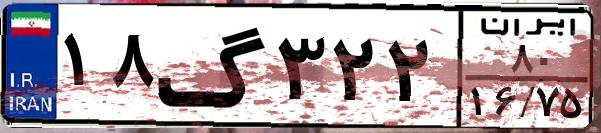0: (537, 27, 568, 80)
1: (57, 26, 110, 100), (470, 70, 495, 125)
2: (385, 28, 445, 110), (330, 28, 385, 110)
3: (270, 28, 330, 110)
5: (560, 70, 590, 125)
6: (495, 70, 520, 125)
7: (535, 70, 560, 125)
8: (110, 28, 156, 98), (508, 27, 537, 80)
گ: (156, 12, 270, 120)
